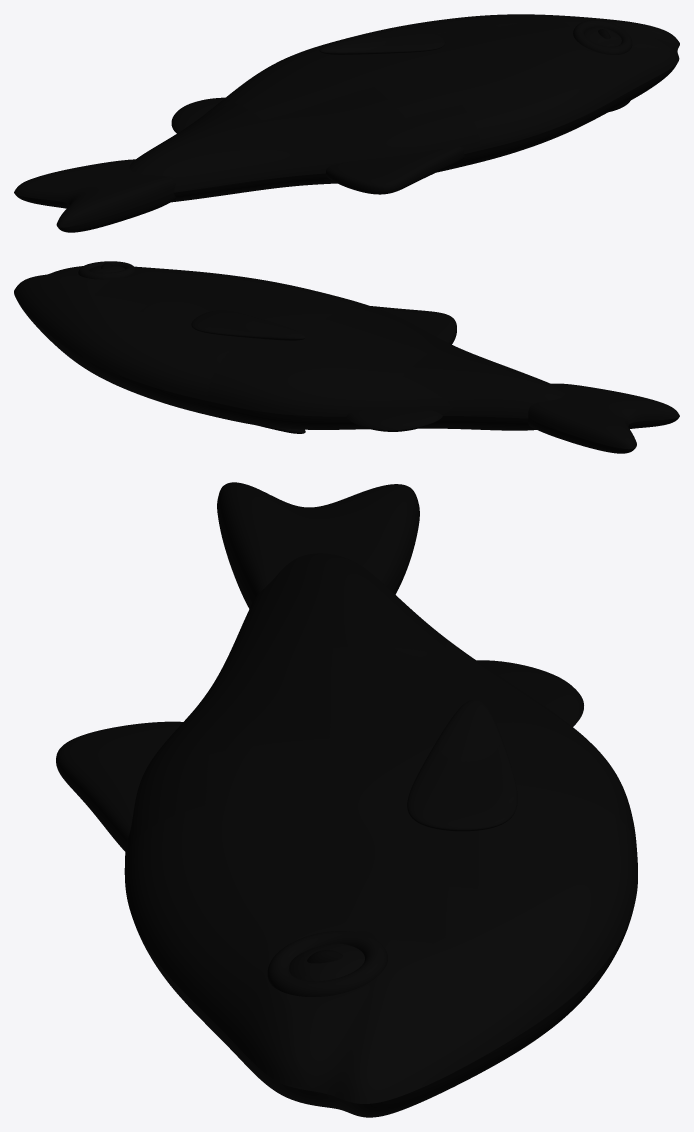
Rendered from HH_BurntFih.fbx.
The picture shows the model from 3 angles, top to bottom: view 1: azimuth 30°, elevation 25°; view 2: azimuth 150°, elevation 25°; view 3: azimuth 270°, elevation 25°; orthographic projection. The views are drawn at different scales.
Visible parts, largest first — view 1: Top.003, Bottom.002; view 2: Top.003, Bottom.002; view 3: Top.003, Bottom.002.
Boxes of the visible parts, x1,y1,x2,y2 form: Top.003: [14, 14, 679, 227]; Bottom.002: [14, 63, 677, 232]; Top.003: [14, 261, 679, 449]; Bottom.002: [17, 301, 678, 453]; Top.003: [56, 482, 637, 1103]; Bottom.002: [56, 519, 633, 1117].
Bounding box in the file's own units: 99.77 × 14.96 × 39.95.
Materials: 2 (1 with a texture image).
